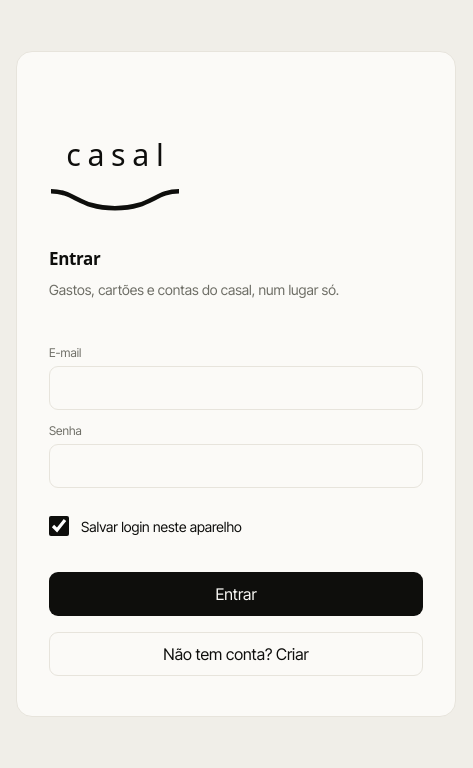
Test: Entrar › mostra aviso visível se a rede ou o Supabase falhar
The image size is (473, 768).
Type "eu@casa.br" into the field labelled "E-mail". click: (236, 388)
box: left=49, top=366, right=423, bottom=410
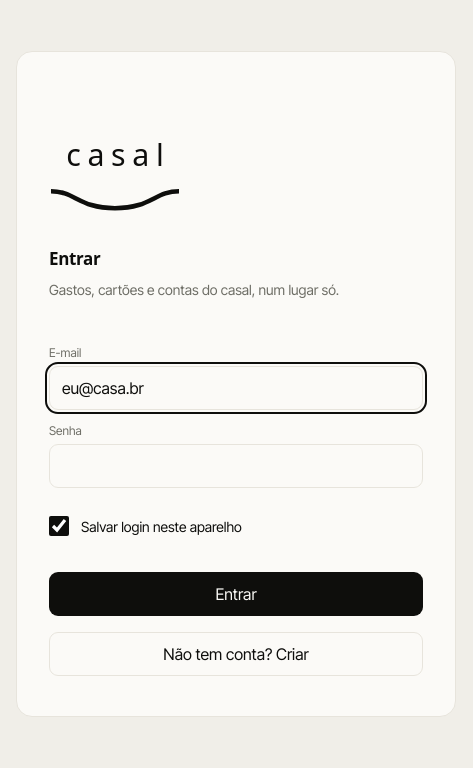
Type "123456" into the password field labelled "Senha". click: (236, 466)
box: left=49, top=444, right=423, bottom=488
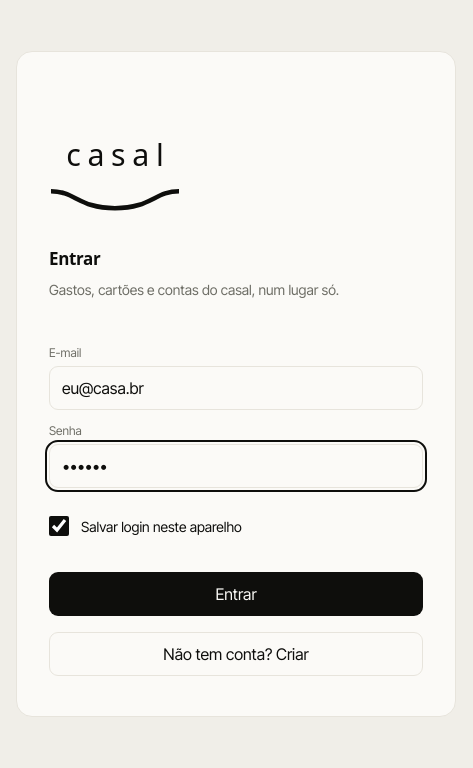
Click the button "Entrar". click: (236, 594)
box: left=49, top=572, right=423, bottom=616
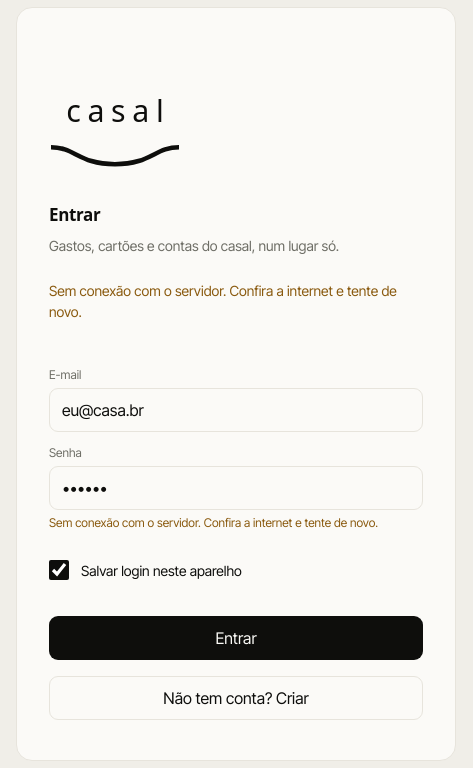
Expected: the message shows "Sem conexão com o servidor", left=49, top=282, right=397, bottom=320
